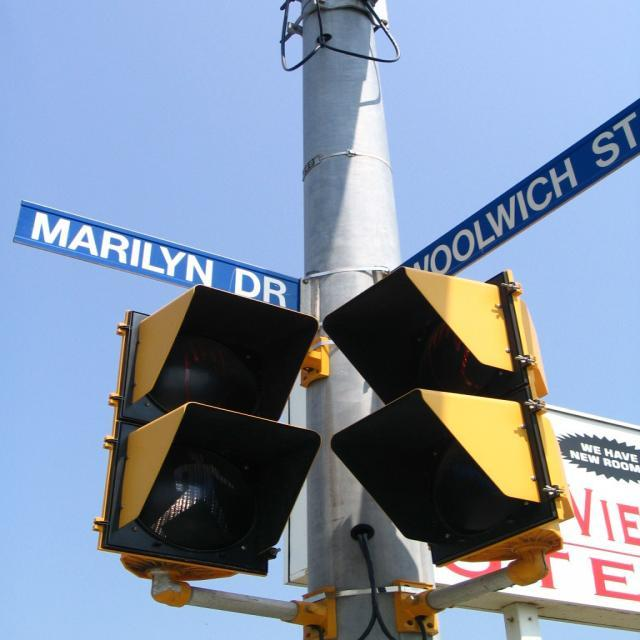off traffic light: (319, 263, 578, 568), (92, 283, 323, 581)
